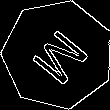M_SE: (23, 21, 92, 89)
